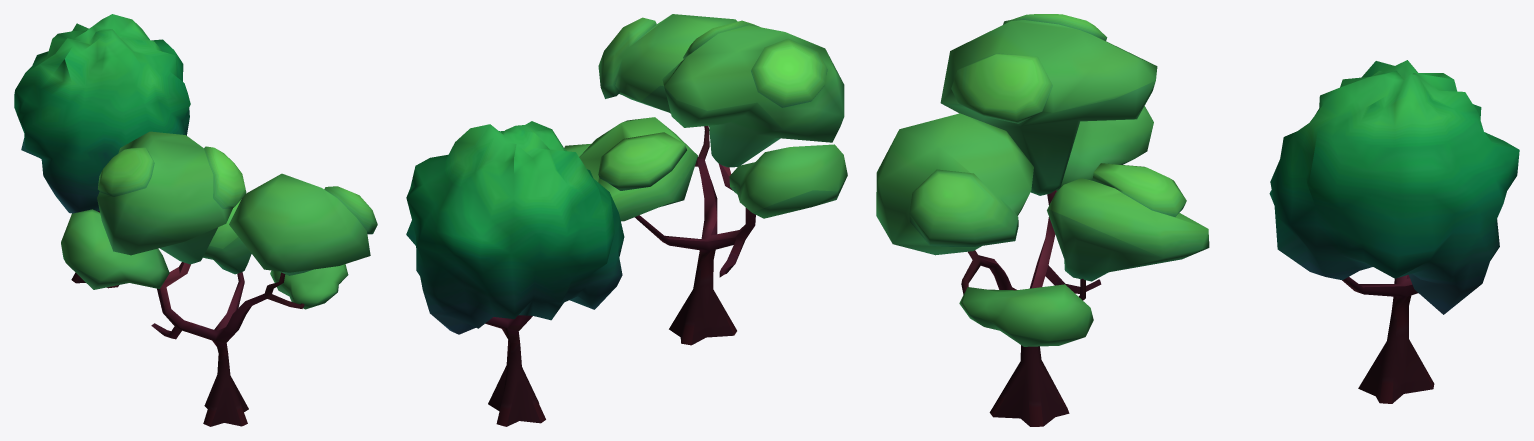
File: tree.fbx
The picture shows the model from 3 angles, left to right: view 1: azimuth 30°, elevation 25°; view 2: azimuth 150°, elevation 25°; view 3: azimuth 270°, elevation 25°; orthographic projection. The views are drawn at different scales.
Visible parts, largest first — view 1: polySurface1, polySurface9; view 2: polySurface1, polySurface9; view 3: polySurface1, polySurface9.
Part boxes in pixels (x1,y1,x2,y2): polySurface1: (61, 131, 377, 426); polySurface9: (14, 14, 190, 288); polySurface1: (564, 14, 847, 345); polySurface9: (406, 121, 624, 426); polySurface1: (876, 14, 1209, 426); polySurface9: (1269, 60, 1519, 403).
Size of the model in its own units: 1097 by 1150 by 1858.
Materials: 1 (1 with a texture image).
